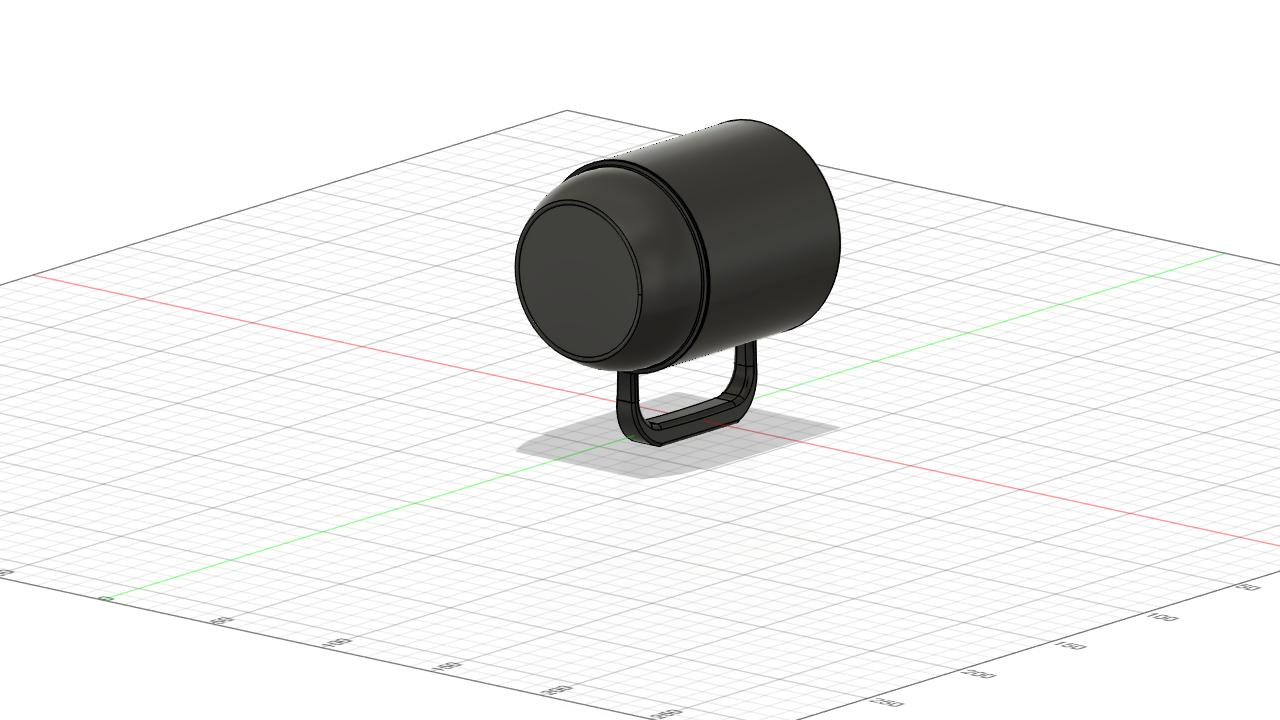mug-real100-3d100: (516, 120, 840, 445)
